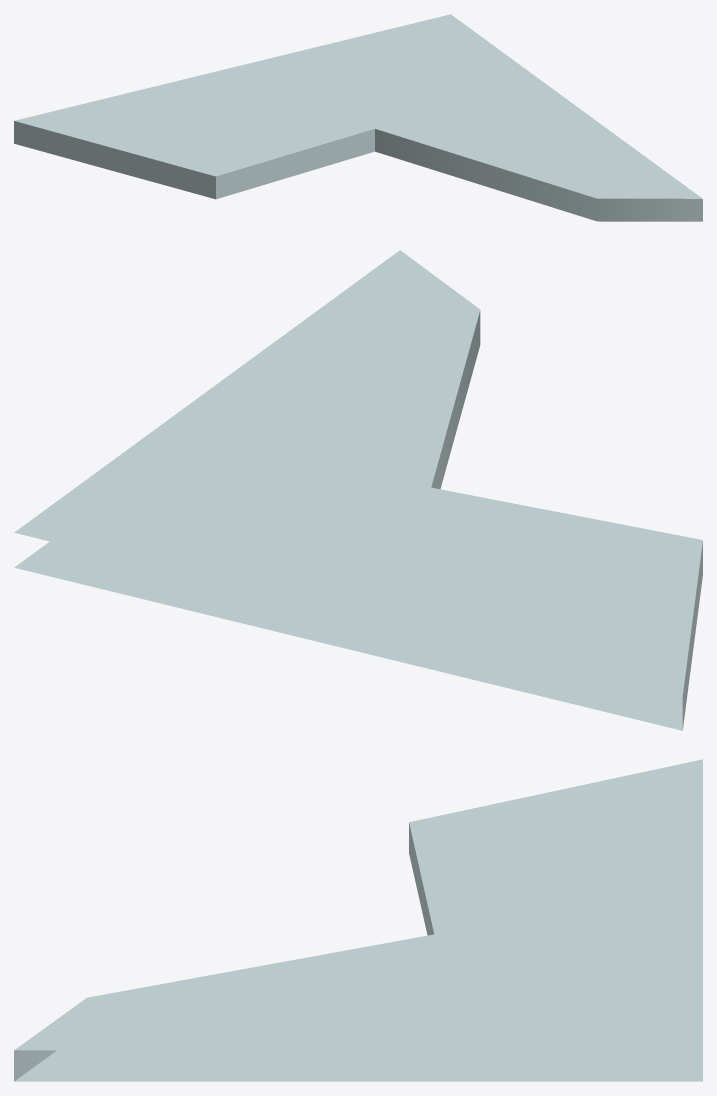
The model's file is Glass_0.glb.
3 views of the same model, one above another, from view 1: azimuth 30°, elevation 25°; view 2: azimuth 150°, elevation 25°; view 3: azimuth 270°, elevation 25° (orthographic). The views are drawn at different scales.
Visible parts, largest first — view 1: Glass_0; view 2: Glass_0; view 3: Glass_0.
Part boxes in pixels (left/top/right/bottom): Glass_0: left=14, top=14, right=702, bottom=221; Glass_0: left=14, top=250, right=702, bottom=730; Glass_0: left=14, top=759, right=702, bottom=1081.
Size of the model in its own units: 2 by 0.1 by 2.
